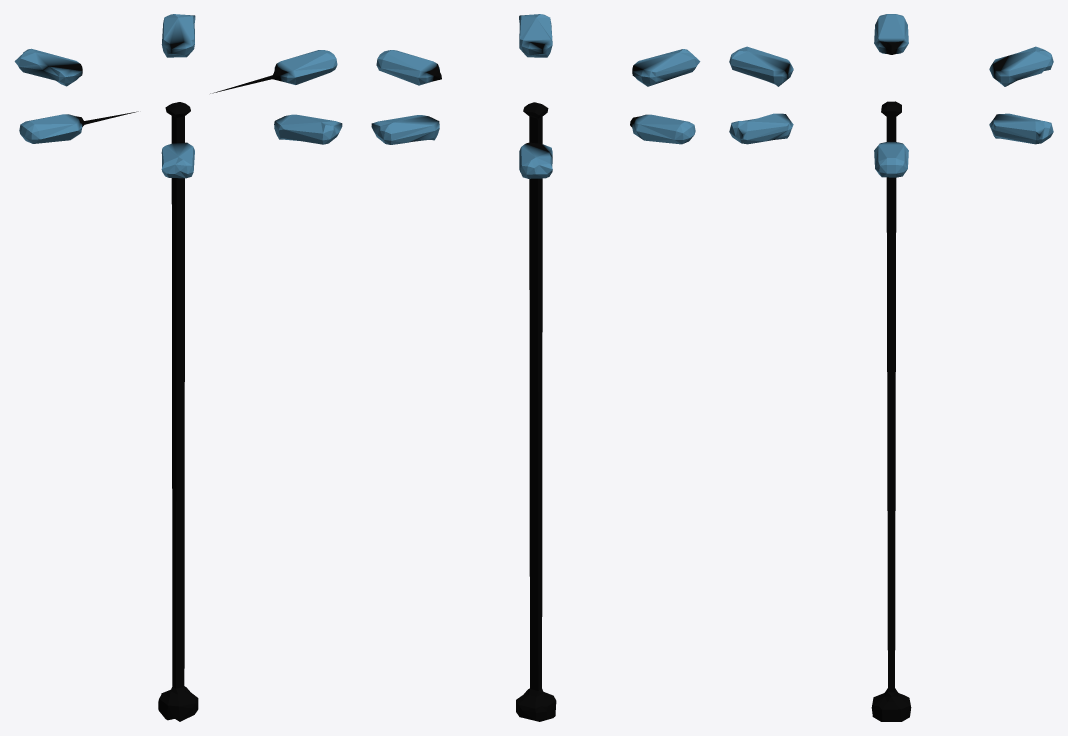
File: Street Lights.glb
3 renders of one model, left to right at view 1: azimuth 30°, elevation 25°; view 2: azimuth 150°, elevation 25°; view 3: azimuth 270°, elevation 25°, orthographic.
Visible parts, largest first — view 1: Root; view 2: Root; view 3: Root.
Boxes of the visible parts, x1,y1,x2,y2 form: Root: (14, 14, 342, 721); Root: (371, 14, 700, 721); Root: (729, 14, 1053, 721).
Bounding box in the file's own units: 1.41 × 2.71 × 1.26.
